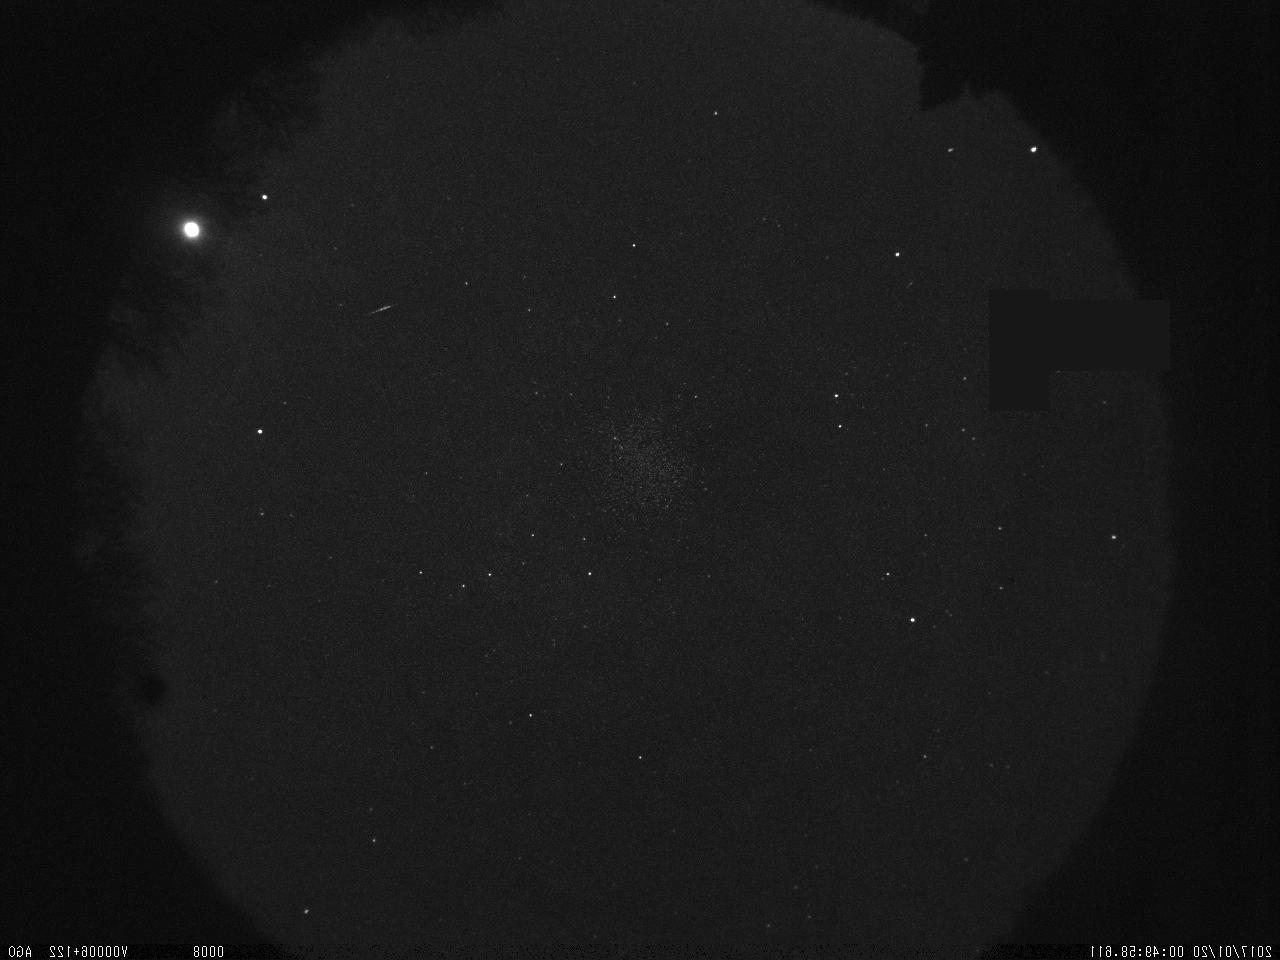meteor: (362, 292, 407, 323)
